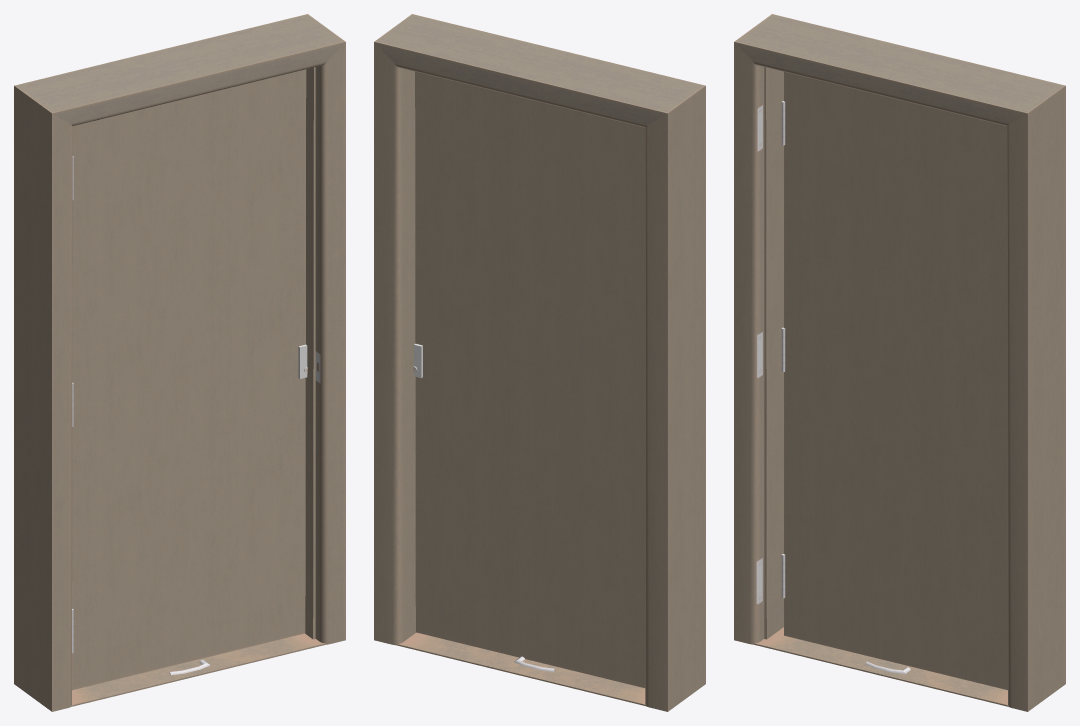
The model's file is FBX_Door_Combine.fbx.
3 renders of one model, left to right at view 1: azimuth 30°, elevation 25°; view 2: azimuth 150°, elevation 25°; view 3: azimuth 330°, elevation 25°, orthographic.
Visible parts, largest first — view 1: SM_Door_Door, SM_Door_Frame; view 2: SM_Door_Door, SM_Door_Frame; view 3: SM_Door_Door, SM_Door_Frame.
Boxes of the visible parts, box(x1,y1,x2,y2) form: SM_Door_Door: box(72, 69, 307, 690); SM_Door_Frame: box(14, 14, 345, 711); SM_Door_Door: box(413, 71, 645, 687); SM_Door_Frame: box(374, 14, 705, 711); SM_Door_Door: box(781, 72, 1007, 690); SM_Door_Frame: box(734, 14, 1065, 711).
Size of the model in its own units: 1.11 by 2.17 by 0.249.
